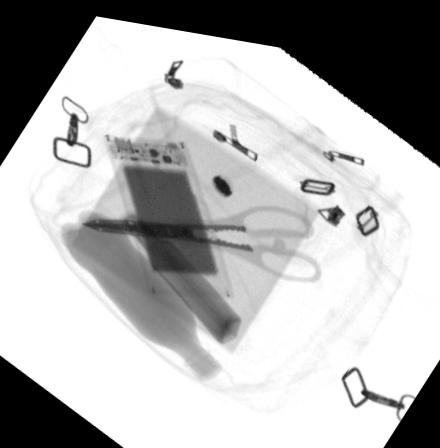Powerbank: (100, 132, 233, 291)
Scissors: (78, 195, 323, 272)
